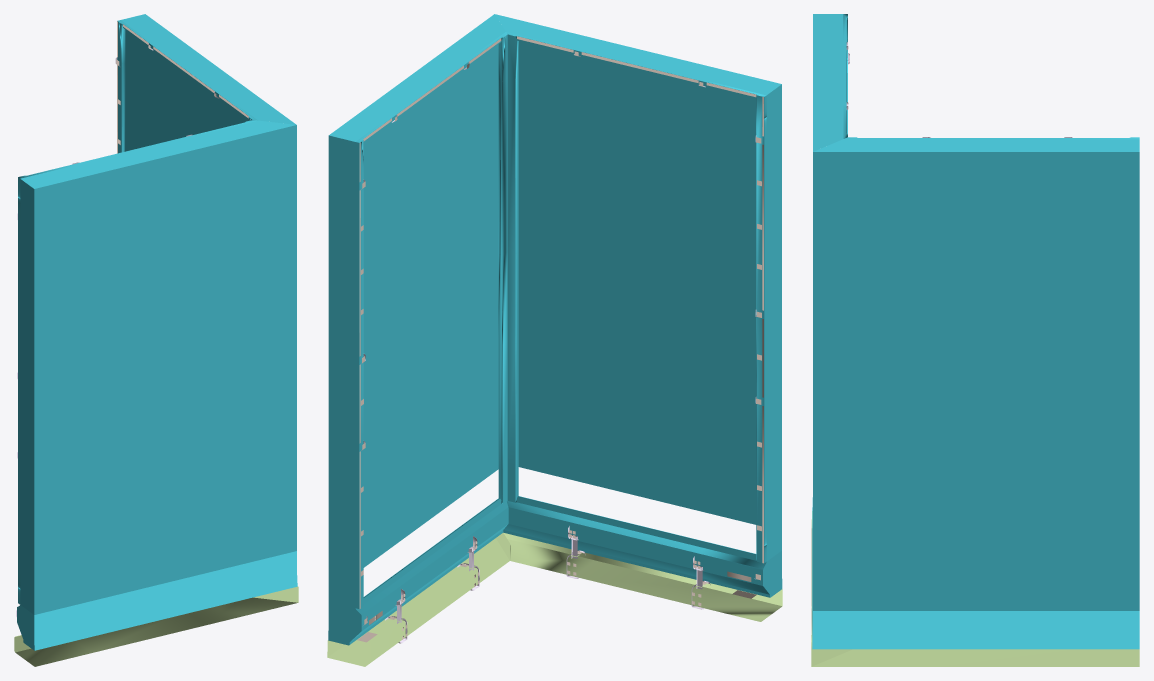
Rendered from roomslg_b_wall_corner_in_04x01x08_a.glb.
The picture shows the model from 3 angles, left to right: view 1: azimuth 30°, elevation 25°; view 2: azimuth 150°, elevation 25°; view 3: azimuth 270°, elevation 25°; orthographic projection. The views are drawn at different scales.
Bounding box in the file's own units: 4.63 × 8 × 4.63.
